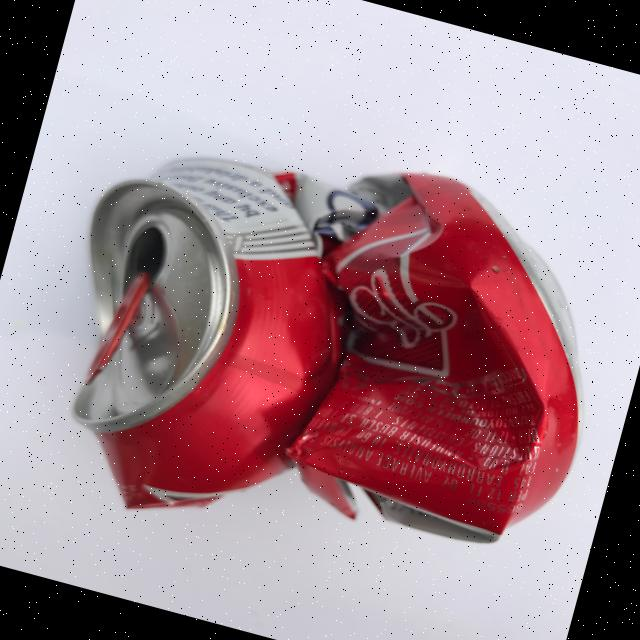metal: (256, 148, 637, 566)
